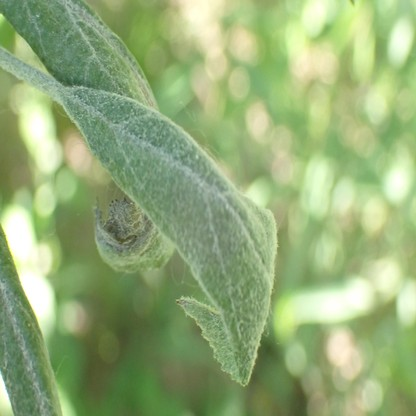powdery_mildew: (63, 87, 277, 384), (0, 1, 175, 275), (0, 282, 51, 415)
